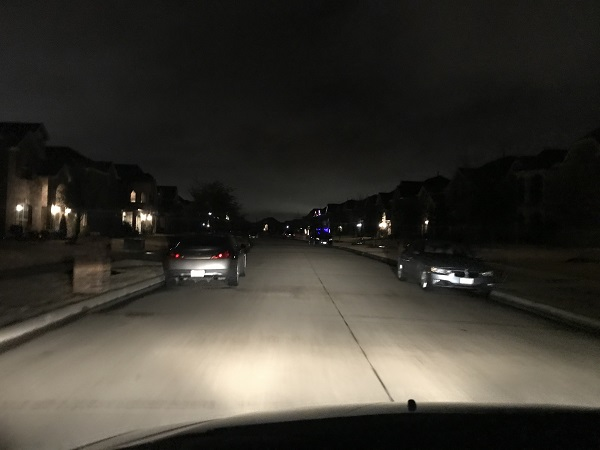car: (391, 235, 495, 295), (164, 228, 249, 287), (308, 229, 334, 247)
